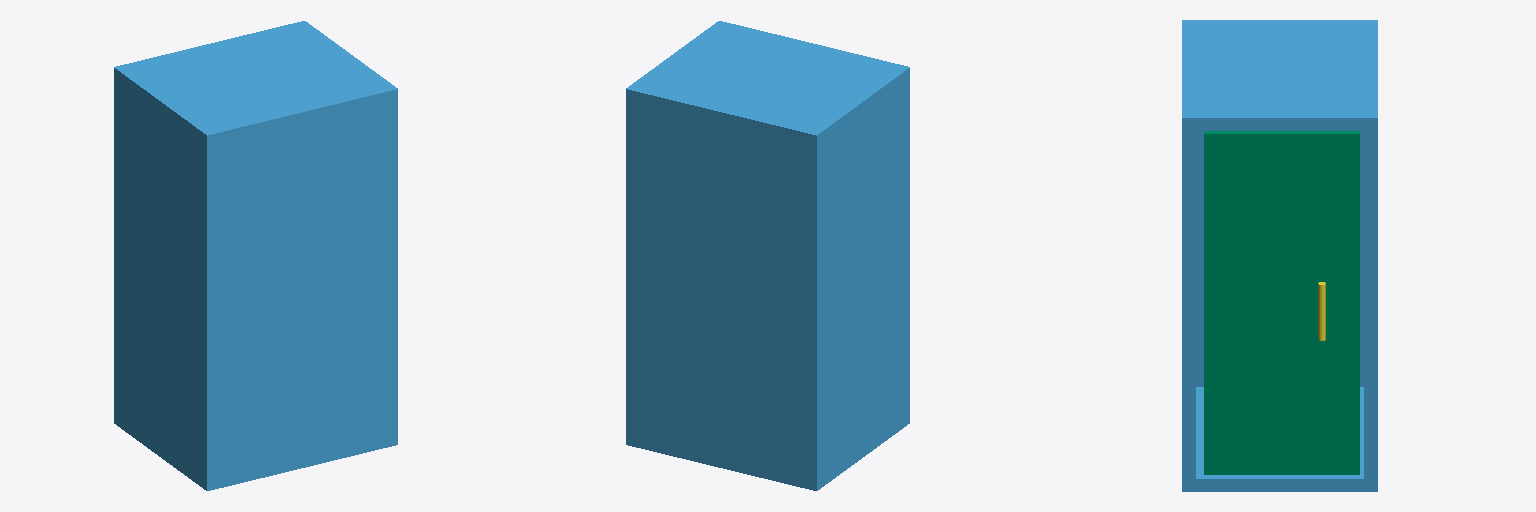
robot.urdf — my_cabinet:
<?xml version="1.0" ?>
<robot name="my_cabinet">
	<link name="world"/>
	<joint name="virtual_joint" type="fixed">
		<parent link="world"/>
		<child link="base_cabinet_link"/>
		<origin xyz="0.0 0.0 0.0" rpy="0.0 0.0 0.0"/>
	</joint>
	<link name="base_cabinet_link">
		<visual>
			<origin xyz="0.0 -0.0025 -0.2577331070883898" rpy="0.0 0.0 0.0"/>
			<geometry>
				<box size="0.3 0.2540337877438645 0.018"/>
			</geometry>
		</visual>
		<collision name="base_cabinet_link_collision_0">
			<origin xyz="0.0 -0.0025 -0.2577331070883898" rpy="0.0 0.0 0.0"/>
			<geometry>
				<box size="0.3 0.2540337877438645 0.018"/>
			</geometry>
		</collision>
		<visual>
			<origin xyz="0.0 0.11551689387193224 0.0" rpy="0.0 0.0 0.0"/>
			<geometry>
				<box size="0.3 0.018 0.5334662141767796"/>
			</geometry>
		</visual>
		<collision name="base_cabinet_link_collision_1">
			<origin xyz="0.0 0.11551689387193224 0.0" rpy="0.0 0.0 0.0"/>
			<geometry>
				<box size="0.3 0.018 0.5334662141767796"/>
			</geometry>
		</collision>
		<visual>
			<origin xyz="0.0 -0.12051689387193223 0.0" rpy="0.0 0.0 0.0"/>
			<geometry>
				<box size="0.3 0.018 0.5334662141767796"/>
			</geometry>
		</visual>
		<collision name="base_cabinet_link_collision_2">
			<origin xyz="0.0 -0.12051689387193223 0.0" rpy="0.0 0.0 0.0"/>
			<geometry>
				<box size="0.3 0.018 0.5334662141767796"/>
			</geometry>
		</collision>
		<visual>
			<origin xyz="0.0 -0.0025 0.2577331070883898" rpy="0.0 0.0 0.0"/>
			<geometry>
				<box size="0.3 0.2540337877438645 0.018"/>
			</geometry>
		</visual>
		<collision name="base_cabinet_link_collision_3">
			<origin xyz="0.0 -0.0025 0.2577331070883898" rpy="0.0 0.0 0.0"/>
			<geometry>
				<box size="0.3 0.2540337877438645 0.018"/>
			</geometry>
		</collision>
		<visual>
			<origin xyz="-0.141 -0.0025 0.0" rpy="0.0 0.0 0.0"/>
			<geometry>
				<box size="0.018 0.2540337877438645 0.5334662141767796"/>
			</geometry>
		</visual>
		<collision name="base_cabinet_link_collision_4">
			<origin xyz="-0.141 -0.0025 0.0" rpy="0.0 0.0 0.0"/>
			<geometry>
				<box size="0.018 0.2540337877438645 0.5334662141767796"/>
			</geometry>
		</collision>
		<inertial>
			<mass value="0.200000"/>
			<inertia ixx="0.005819" ixy="0.0" ixz="0.0" iyy="0.006243" iyz="0.0" izz="0.002576"/>
		</inertial>
	</link>
	<link name="door_link">
		<visual>
			<origin xyz="0.0 -0.10151689387193225 0.0"/>
			<geometry>
				<box size="0.018 0.2030337877438645 0.4874662141767796"/>
			</geometry>
		</visual>
		<collision name="door_link_collision">
			<origin xyz="0.0 -0.10151689387193225 0.0"/>
			<geometry>
				<box size="0.018 0.2030337877438645 0.4874662141767796"/>
			</geometry>
		</collision>
		<inertial>
			<mass value="0.200000"/>
			<inertia ixx="0.004647" ixy="0.0" ixz="0.0" iyy="0.003966" iyz="0.0" izz="0.000692"/>
		</inertial>
	</link>
	<joint name="door_joint" type="revolute">
		<origin xyz="0.141 -0.10151689387193225 0.0" rpy="0.000000 -0.000000 3.141593"/>
		<axis xyz="0 0 1"/>
		<parent link="base_cabinet_link"/>
		<child link="door_link"/>
		<limit effort="50" lower="-1.658062789394613" upper="0" velocity="10"/>
		<dynamics friction="3.5" damping="3.5"/>
	</joint>
	<link name="handle_link">
		<visual>
			<origin xyz="0.0 0.0 0.0" rpy="0.0 0.0 0.0"/>
			<geometry>
				<cylinder length="0.08" radius="0.005"/>
			</geometry>
		</visual>
		<collision name="handle_link_collision_0">
			<origin xyz="0.0 0.0 0.0" rpy="0.0 0.0 0.0"/>
			<geometry>
				<cylinder length="0.08" radius="0.005"/>
			</geometry>
		</collision>
		<visual>
			<origin xyz="-0.01 0.0 0.02" rpy="0.0 1.5707963267948966 0.0"/>
			<geometry>
				<cylinder length="0.02" radius="0.003"/>
			</geometry>
		</visual>
		<collision name="handle_link_collision_1">
			<origin xyz="-0.01 0.0 0.02" rpy="0.0 1.5707963267948966 0.0"/>
			<geometry>
				<cylinder length="0.01" radius="0.003"/>
			</geometry>
		</collision>
		<visual>
			<origin xyz="-0.01 0.0 -0.02" rpy="0.0 1.5707963267948966 0.0"/>
			<geometry>
				<cylinder length="0.02" radius="0.003"/>
			</geometry>
		</visual>
		<collision name="handle_link_collision_2">
			<origin xyz="-0.01 0.0 -0.02" rpy="0.0 1.5707963267948966 0.0"/>
			<geometry>
				<cylinder length="0.02" radius="0.003"/>
			</geometry>
		</collision>
		<inertial>
			<mass value="0.050000"/>
			<inertia ixx="0.000027" ixy="0.0" ixz="0.0" iyy="0.000029" iyz="0.0" izz="0.000003"/>
		</inertial>
	</link>
	<joint name="handle_joint" type="fixed">
		<origin xyz="-0.028999999999999998 -0.1530337877438645 0.0" rpy="0.000000 -0.000000 3.141593"/>
		<parent link="door_link"/>
		<child link="handle_link"/>
	</joint>
	<gazebo reference="base_cabinet_link">
		<sensor name="main_sensor" type="contact">
			<selfCollide>true</selfCollide>
			<alwaysOn>true</alwaysOn>
			<updateRate>5.0</updateRate>
			<material>Gazebo/Red</material>
			<contact>
				<collision>base_cabinet_link_collision_0_collision</collision>
				<collision>base_cabinet_link_collision_1_collision</collision>
				<collision>base_cabinet_link_collision_2_collision</collision>
				<collision>base_cabinet_link_collision_3_collision</collision>
				<collision>base_cabinet_link_collision_4_collision</collision>
			</contact>
			<plugin name="gazebo_ros_bumper_controller" filename="libgazebo_ros_bumper.so">
				<bumperTopicName>/contact</bumperTopicName>
				<frameName>world</frameName>
			</plugin>
		</sensor>
	</gazebo>
	<gazebo reference="door_link">
		<sensor name="main_sensor" type="contact">
			<selfCollide>true</selfCollide>
			<alwaysOn>true</alwaysOn>
			<updateRate>5.0</updateRate>
			<material>Gazebo/Red</material>
			<contact>
				<collision>door_link_collision_collision</collision>
			</contact>
			<plugin name="gazebo_ros_bumper_controller" filename="libgazebo_ros_bumper.so">
				<bumperTopicName>/contact_door</bumperTopicName>
				<frameName>contact_door</frameName>
			</plugin>
		</sensor>
	</gazebo>
	<gazebo reference="door_link">
		<mu>3.0</mu>
		<mu2>3.0</mu2>
		<kp>10000000</kp>
		<kd>100</kd>
	</gazebo>
</robot>

--- Facts derived from the render (not from the file) ---
3 views of the same robot in one strip: view 1: azimuth 30°, elevation 25°; view 2: azimuth 150°, elevation 25°; view 3: azimuth 270°, elevation 25° (orthographic).
Robot: my_cabinet — 4 links, 3 joints (1 revolute, 2 fixed); root link world; default pose: all joints at 0.
Links seen in each view (by area): view 1: base_cabinet_link; view 2: base_cabinet_link; view 3: door_link, base_cabinet_link.
Link boxes in pixels (x1,y1,x2,y2): base_cabinet_link: (114,21,397,490); base_cabinet_link: (626,21,909,490); door_link: (1204,131,1359,474); base_cabinet_link: (1182,20,1377,491).
Size in the robot's own frame: 0.325 by 0.254 by 0.5335 metres.
Geometry: primitives only (box / cylinder / sphere), no mesh files.
